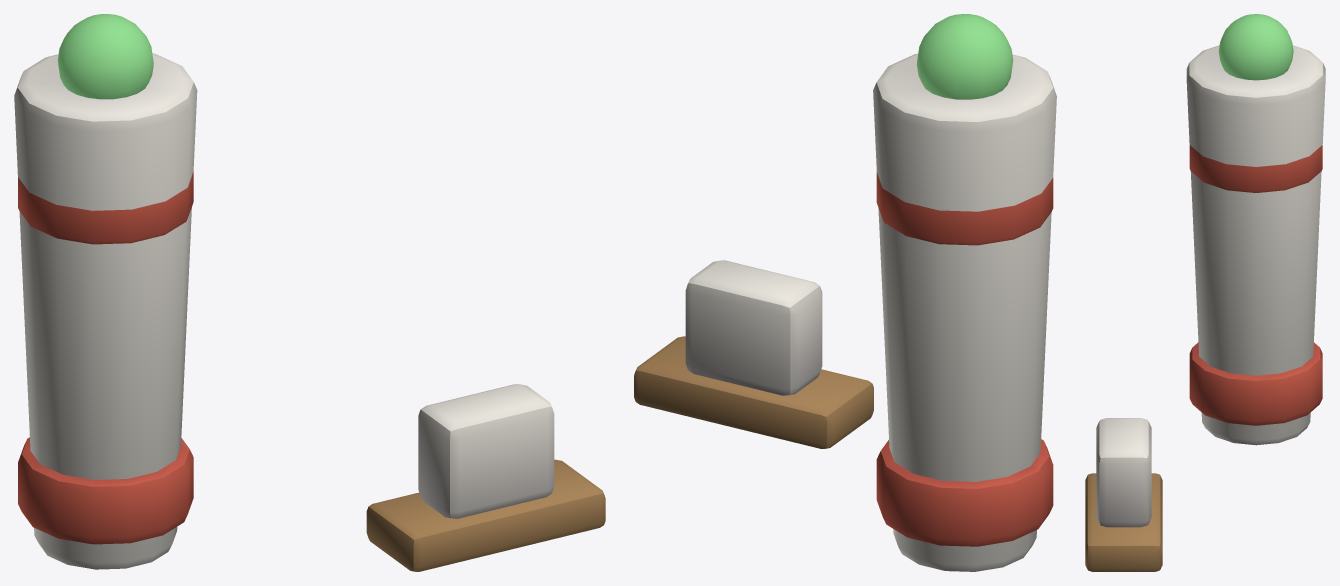
3 views of the same model, side by side, from view 1: azimuth 30°, elevation 25°; view 2: azimuth 150°, elevation 25°; view 3: azimuth 270°, elevation 25° (orthographic). The views are drawn at different scales.
Parts seen in each view (by area): view 1: landmark_788c23e5; view 2: landmark_788c23e5; view 3: landmark_788c23e5.
Part boxes in pixels (x1=…): landmark_788c23e5: x1=14, y1=14, x2=605, y2=571; landmark_788c23e5: x1=634, y1=14, x2=1056, y2=571; landmark_788c23e5: x1=1085, y1=14, x2=1325, y2=571.
Size of the model in its own units: 3.85 by 4.09 by 2.18.
